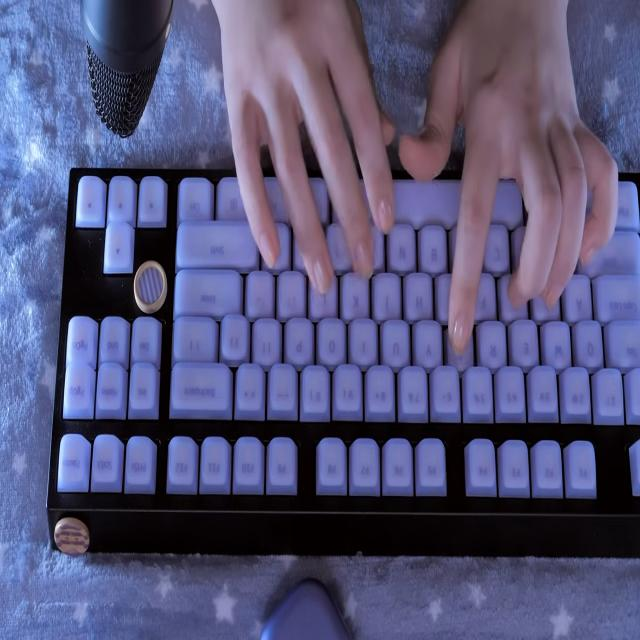keyboard-with-hands: (47, 168, 640, 516)
